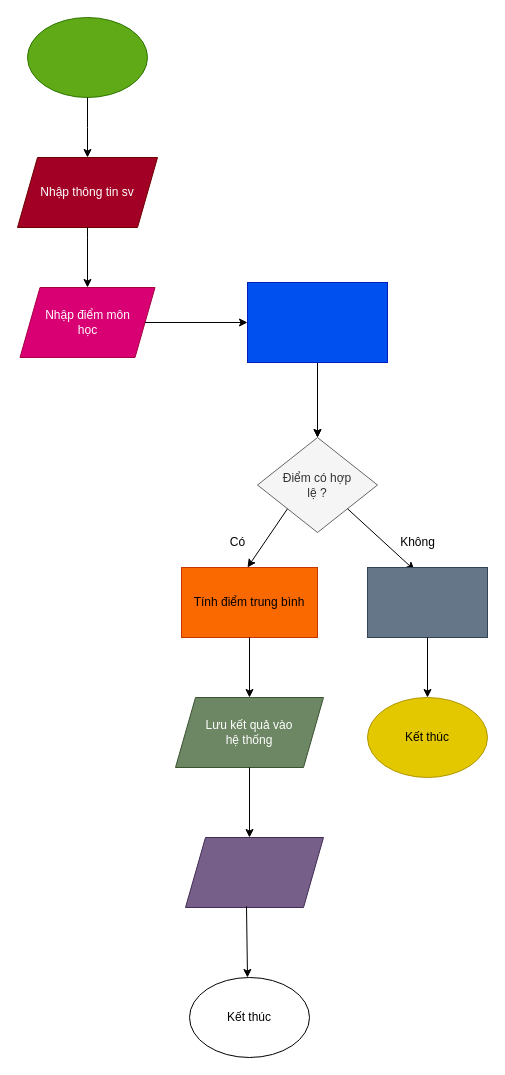
Image size: 505x1075. Some labels were removed from this diagram. Here are the shapes that lost their labels. From the top down, the centre of each, then its label:
point (87, 57): Bắt đầu
point (317, 322): Kiểm tra điểm hợp lệ
point (427, 602): Thông báo lỗi nhập
point (254, 872): Hiển thị kết quả
